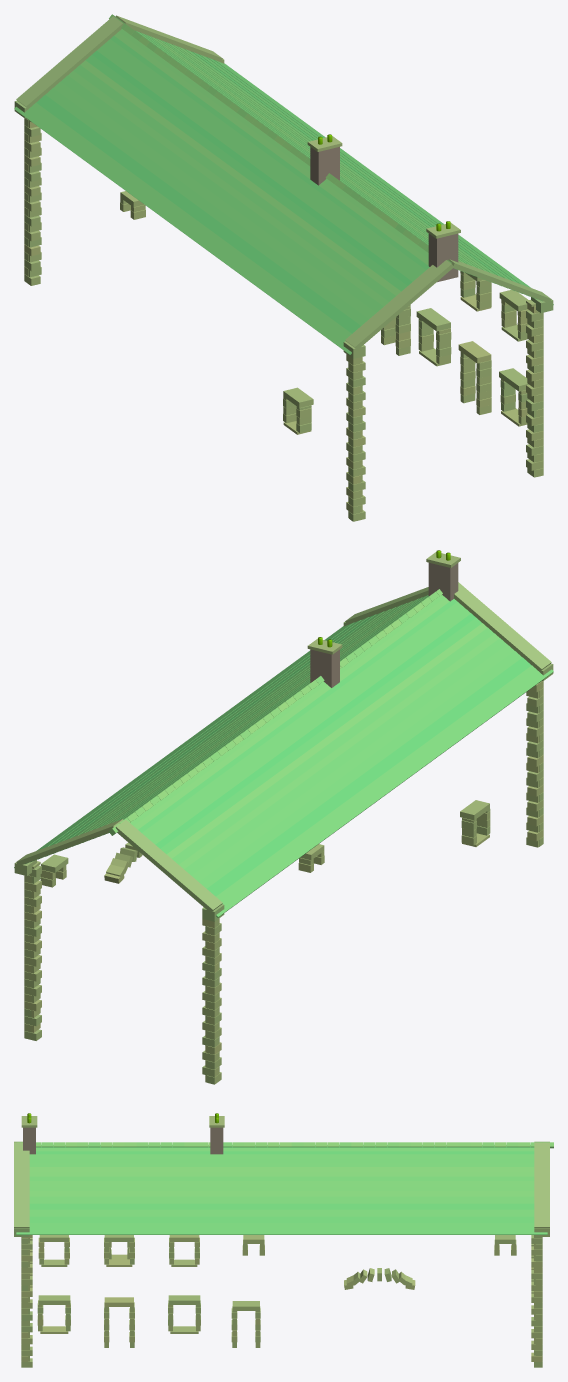
The model's file is SM_Bld_105_Stone.glb.
3 renders of one model, top to bottom at view 1: azimuth 30°, elevation 25°; view 2: azimuth 150°, elevation 25°; view 3: azimuth 270°, elevation 25°, orthographic. The views are drawn at different scales.
Visible parts, largest first — view 1: SM_Bld_105_Stone; view 2: SM_Bld_105_Stone; view 3: SM_Bld_105_Stone.
Boxes of the visible parts, x1,y1,x2,y2 form: SM_Bld_105_Stone: (14, 14, 553, 521); SM_Bld_105_Stone: (14, 550, 553, 1084); SM_Bld_105_Stone: (14, 1113, 553, 1367).
Bounding box in the file's own units: 8.61 × 10.94 × 24.9.
